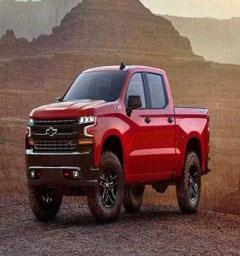car: (12, 56, 223, 220)
